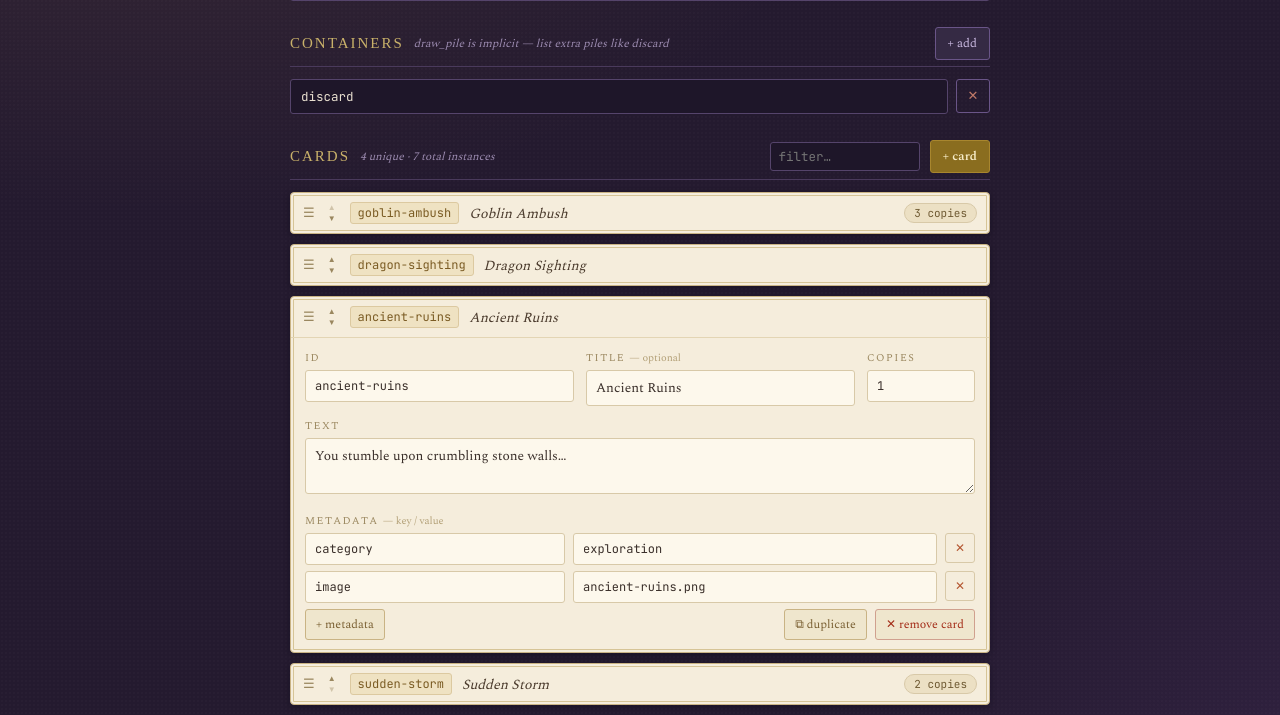
expanded card row fields › duplicates a card, inserting the copy after the original with an -copy id suffix
(page scrolled)
What coordinates should you click on to do the following:
click the button "⧉ duplicate"
I would click on:
 (826, 624)
Its box is [784,609,867,640].
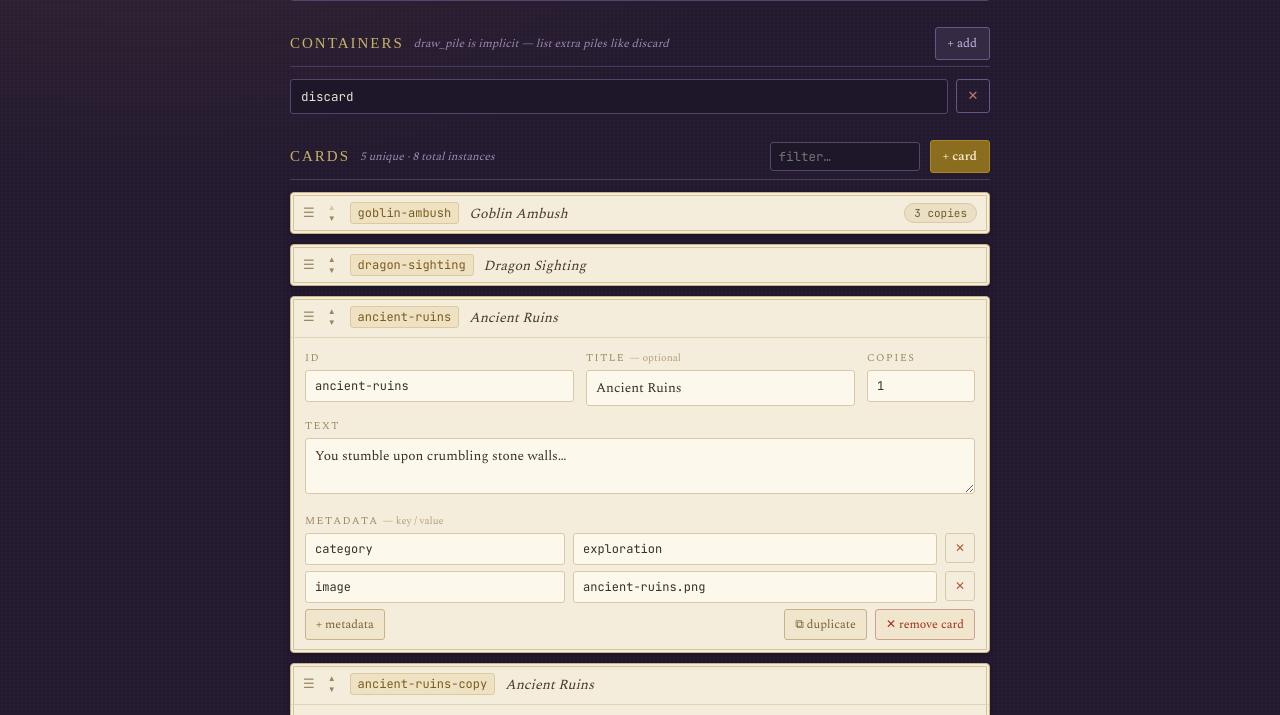
Check: the text "ancient-ruins-copy" is shown, box [350,673,495,695]
